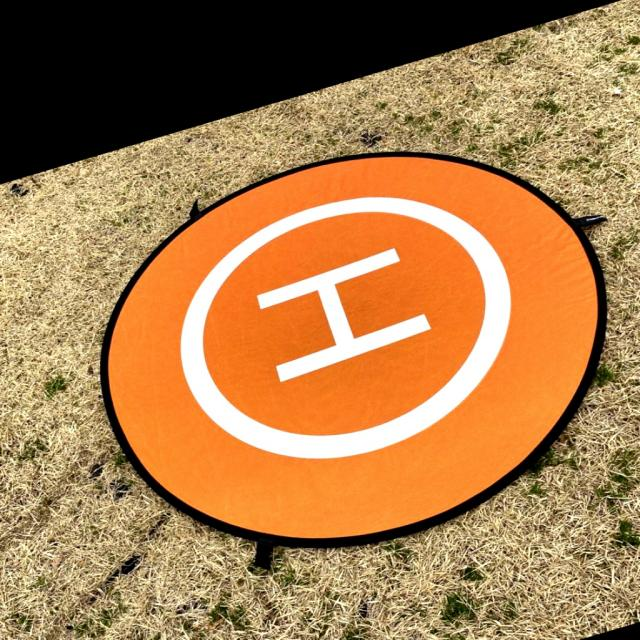helipad: (171, 190, 515, 463)
